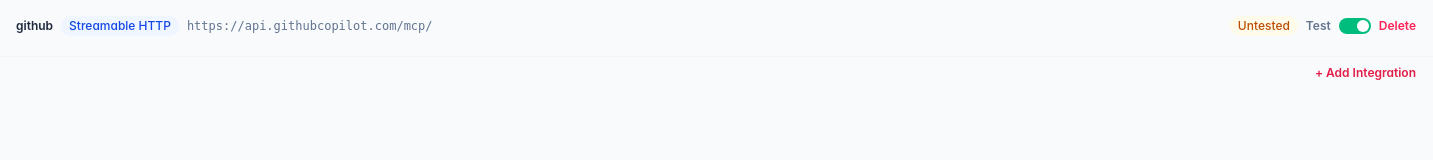
Test button › flips badge to "Active (N tools)" green on ok:true
Click the button with test id "test-button" at (1318, 26), box [1306,18,1331,34]
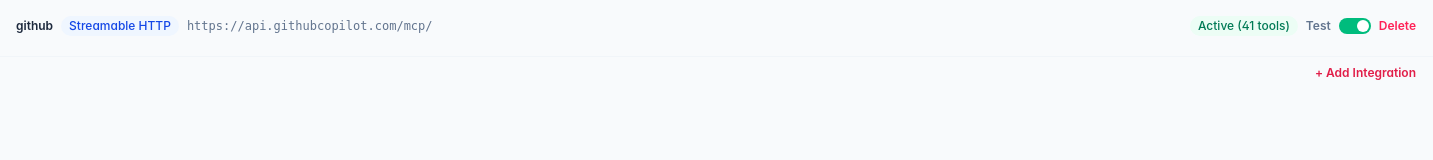
expect the text with test id "status-badge" reads "Active (41 tools)": met, box [1190,16,1298,36]
